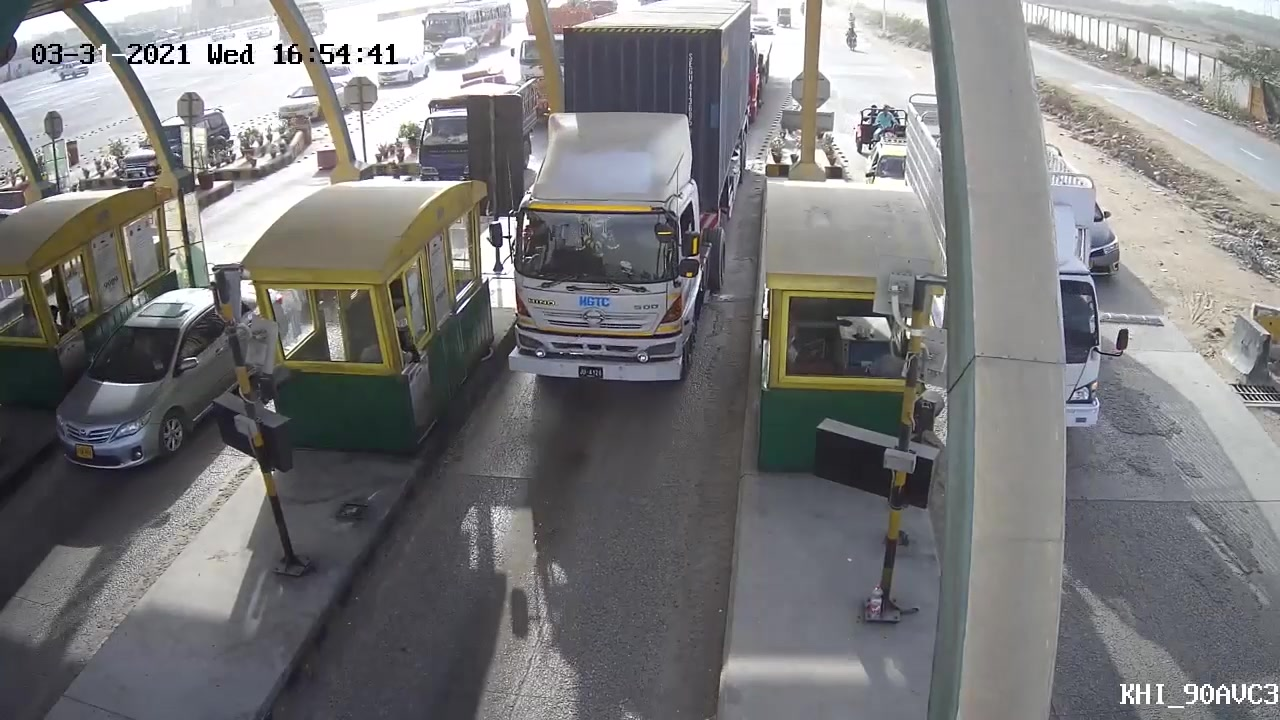F6: (502, 1, 760, 392)
